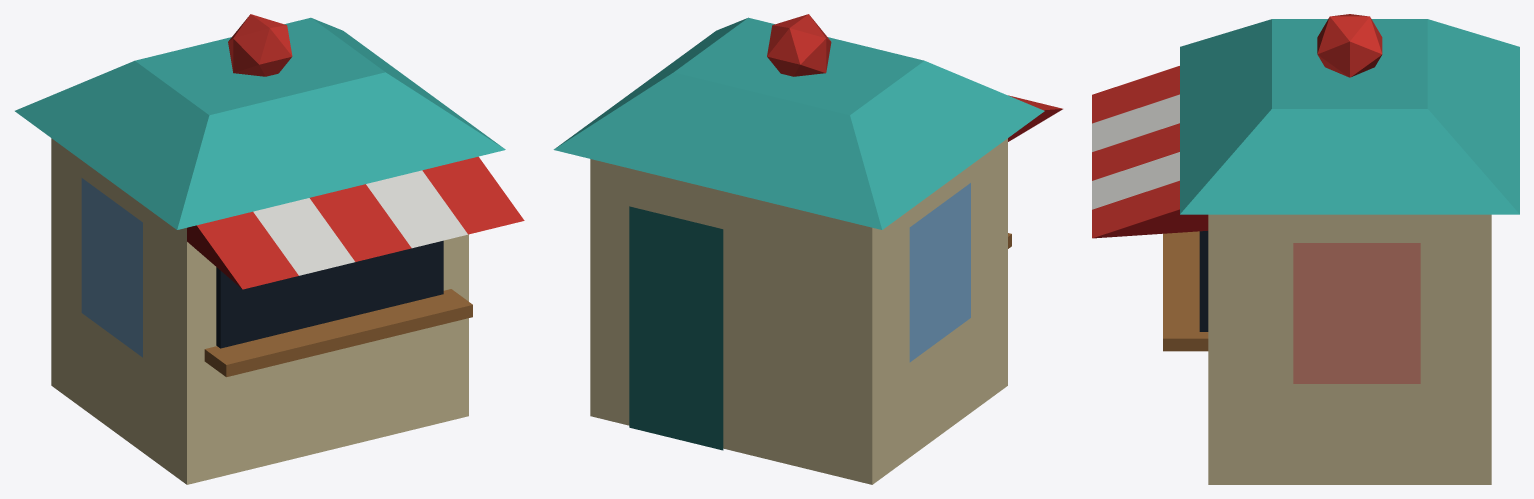
Rendered from prop_kiosk.glb.
3 views of the same model, side by side, from view 1: azimuth 30°, elevation 25°; view 2: azimuth 150°, elevation 25°; view 3: azimuth 270°, elevation 25° (orthographic). The views are drawn at different scales.
Parts seen in each view (by area): view 1: prop_kiosk; view 2: prop_kiosk; view 3: prop_kiosk.
Part boxes in pixels (x1,y1,x2,y2): prop_kiosk: (15, 14, 524, 484); prop_kiosk: (553, 14, 1062, 484); prop_kiosk: (1092, 14, 1519, 484).
Size of the model in its own units: 2.8 by 3.09 by 3.02.
